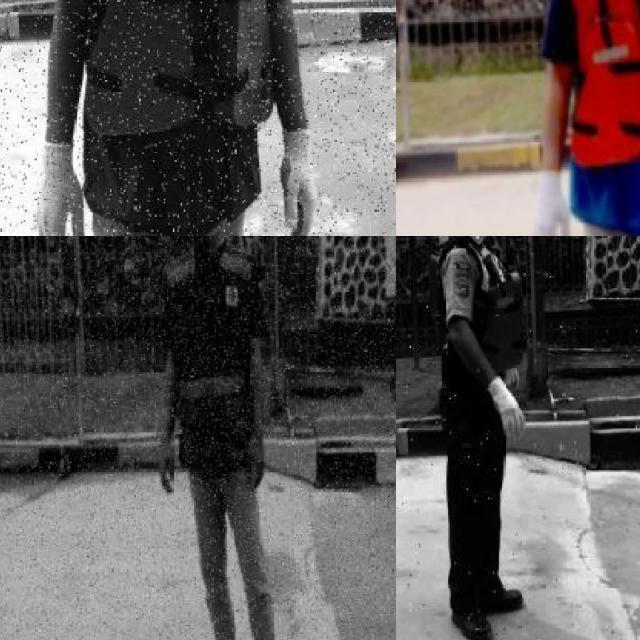apron: (31, 137, 86, 236), (273, 124, 320, 236), (528, 167, 573, 236), (484, 374, 528, 442)
